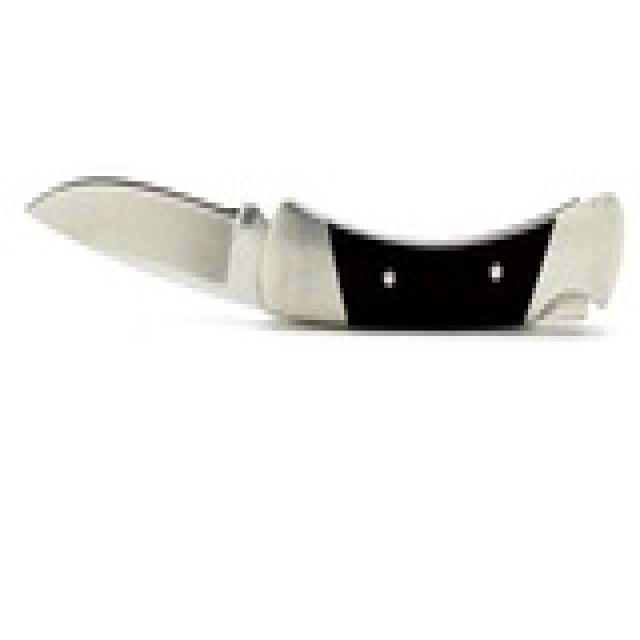Knife: (16, 133, 628, 344)
